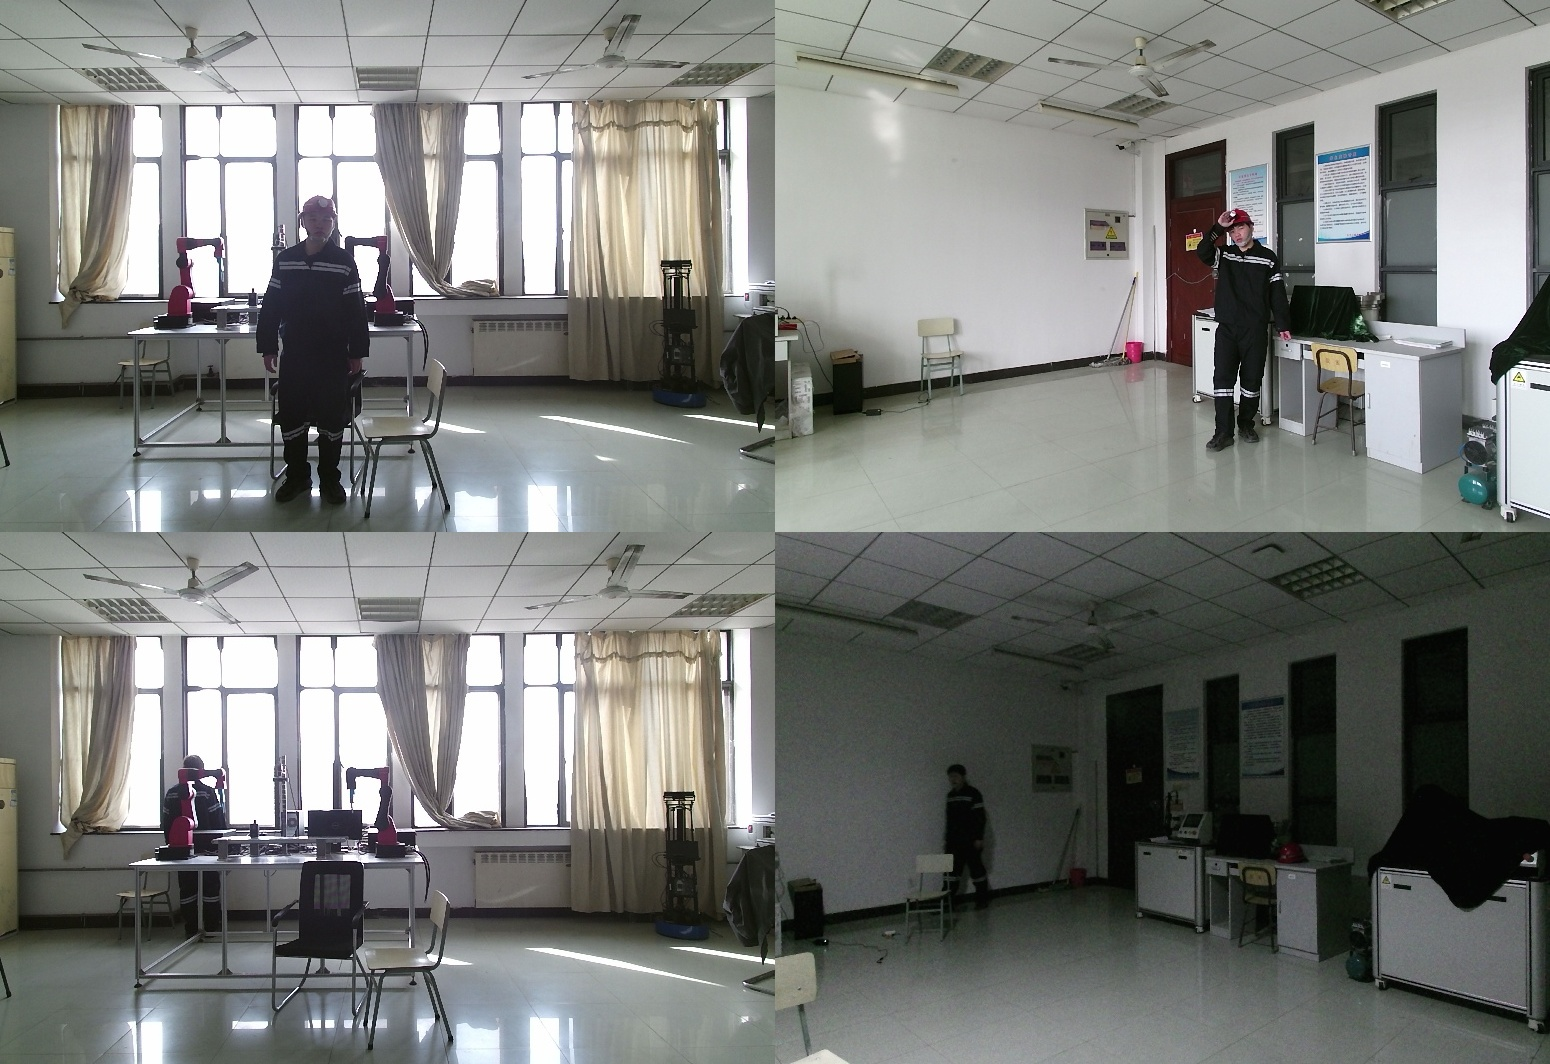person: (258, 196, 373, 511), (1200, 210, 1298, 450), (163, 754, 230, 946), (941, 767, 994, 916)
